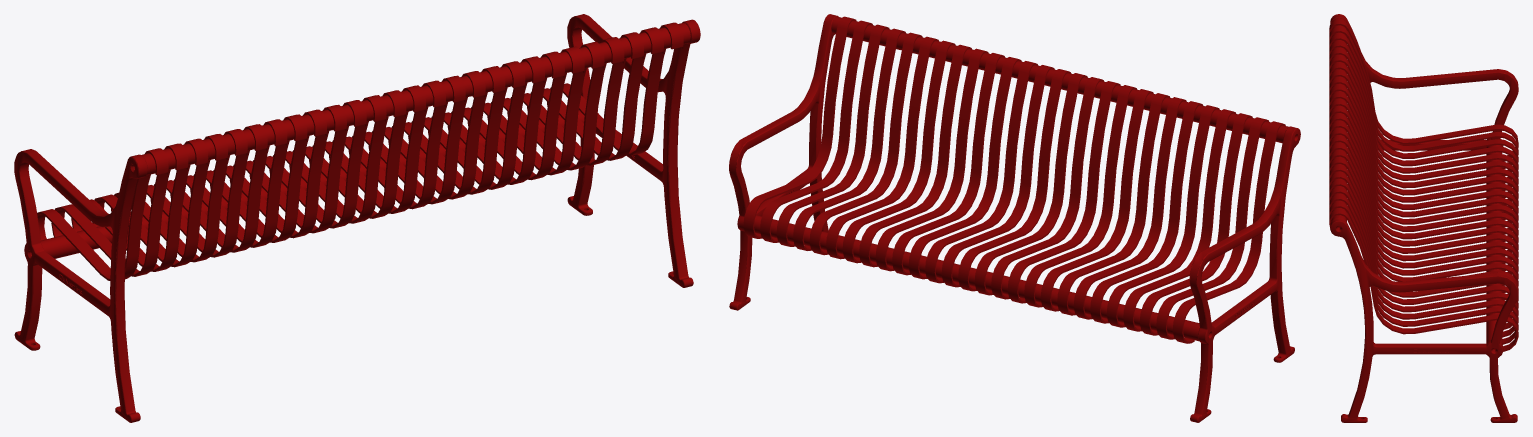
3 renders of one model, left to right at view 1: azimuth 30°, elevation 25°; view 2: azimuth 150°, elevation 25°; view 3: azimuth 270°, elevation 25°, orthographic. The views are drawn at different scales.
Visible parts, largest first — view 1: mesh1_mesh1-geometry, mesh15_mesh15-geometry, mesh3_mesh3-geometry; view 2: mesh1_mesh1-geometry, mesh15_mesh15-geometry, mesh3_mesh3-geometry; view 3: mesh1_mesh1-geometry, mesh15_mesh15-geometry, mesh3_mesh3-geometry.
Boxes of the visible parts, bbox=[...] form: mesh1_mesh1-geometry: bbox=[37, 22, 683, 280]; mesh15_mesh15-geometry: bbox=[14, 14, 700, 422]; mesh3_mesh3-geometry: bbox=[41, 23, 690, 258]; mesh1_mesh1-geometry: bbox=[743, 16, 1285, 343]; mesh15_mesh15-geometry: bbox=[729, 14, 1300, 422]; mesh3_mesh3-geometry: bbox=[754, 17, 1288, 341]; mesh1_mesh1-geometry: bbox=[1329, 19, 1518, 351]; mesh15_mesh15-geometry: bbox=[1330, 14, 1518, 422]; mesh3_mesh3-geometry: bbox=[1331, 18, 1502, 349].
Size of the model in its own units: 0.8582 by 0.3922 by 0.3312.
